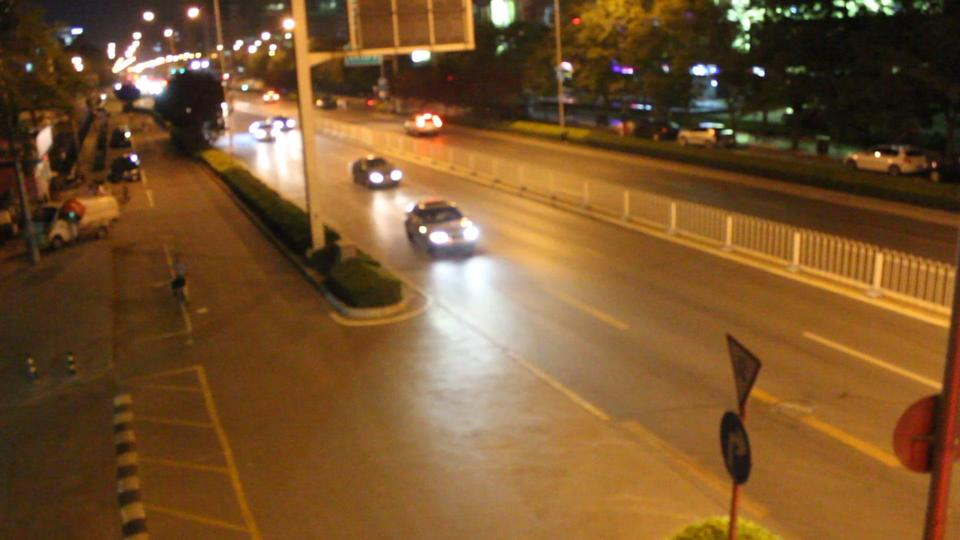car: (401, 197, 482, 260), (44, 192, 120, 248), (844, 144, 938, 178), (350, 155, 405, 189), (247, 116, 301, 142), (403, 111, 446, 137)
sign: (720, 332, 761, 417), (712, 416, 752, 487)
